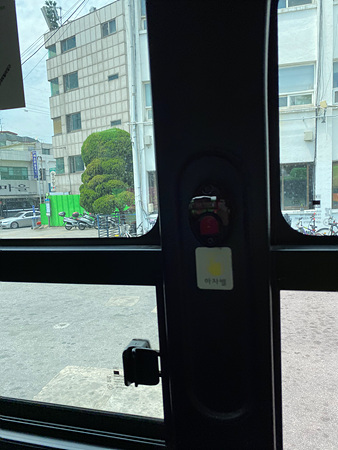bell: (188, 190, 232, 249)
